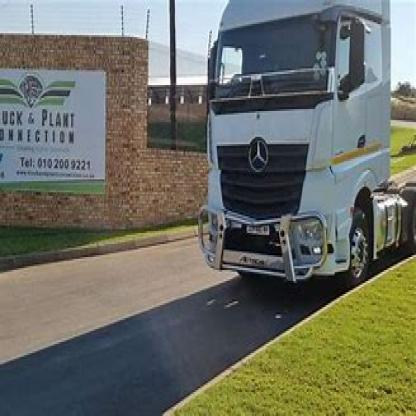dump_truck: (186, 0, 414, 301)
